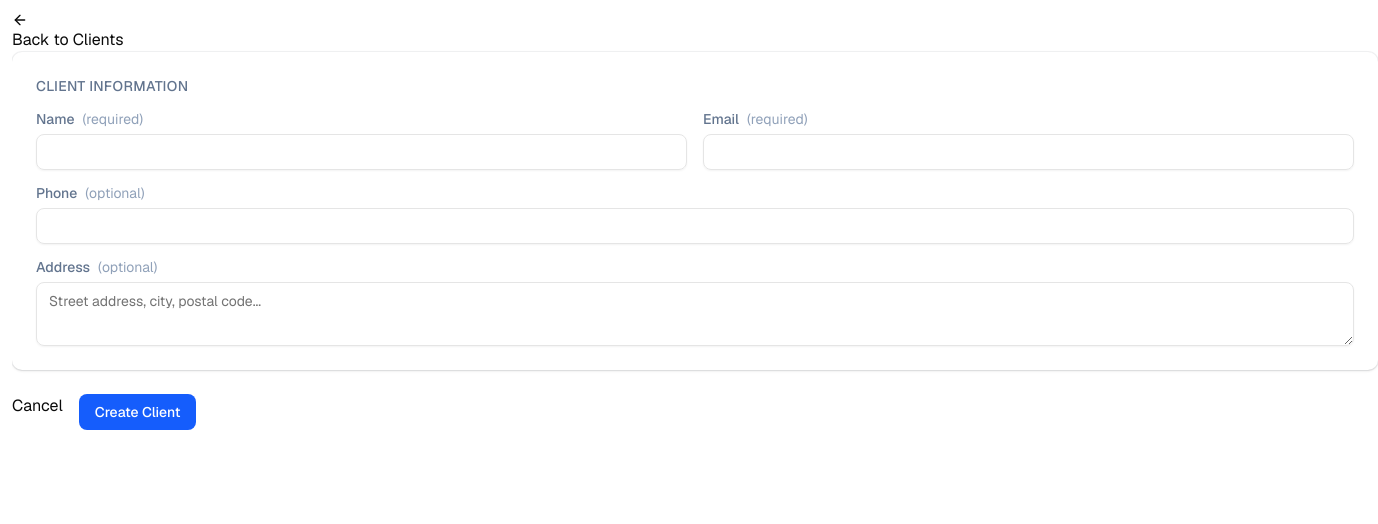
ClientForm › validation › shows error when name is empty
The width and height of the screenshot is (1378, 524).
Step 1. Type "test@example.com" into the field labelled "Email (required)" → [1028, 152], box [703,134,1354,170]
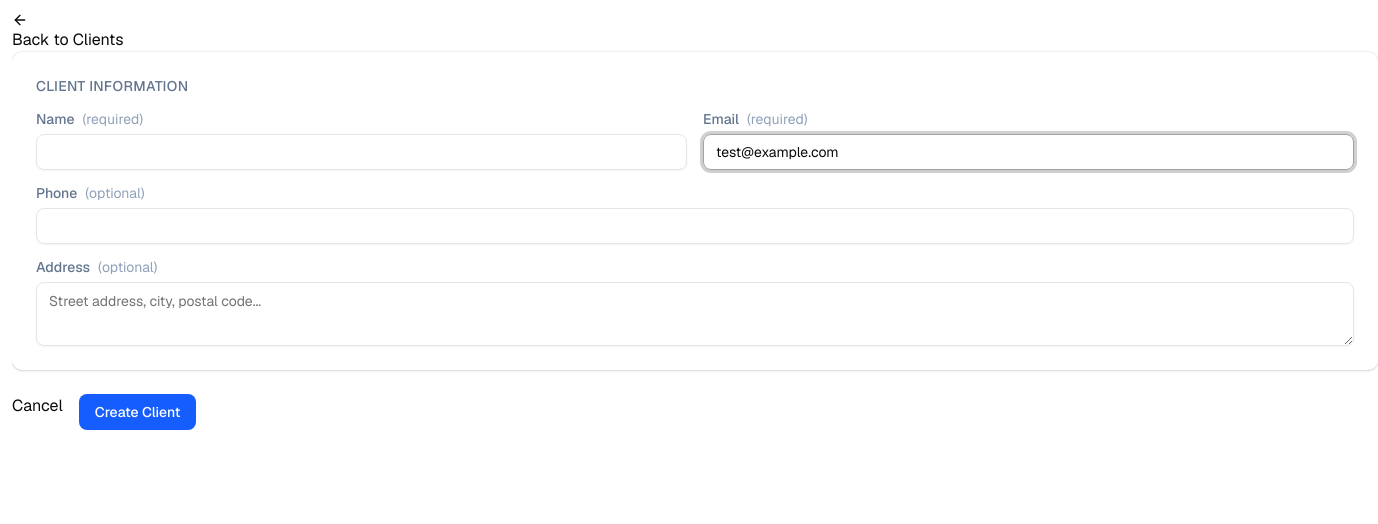
Step 2. Click the button "Create Client" → [138, 412], box [79,394,196,430]
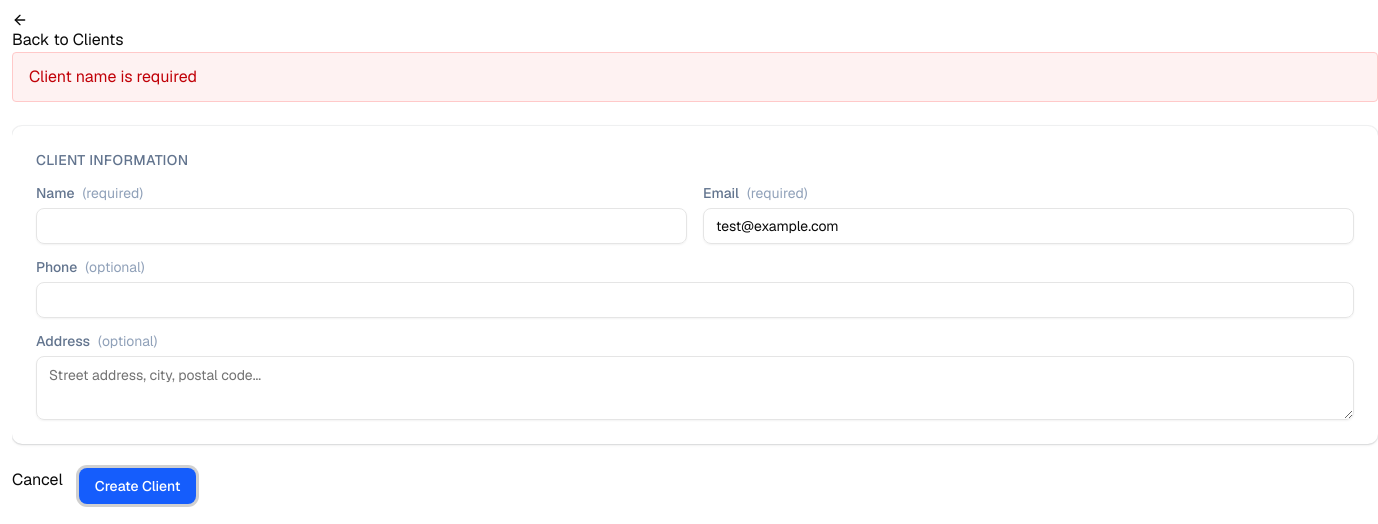
Now the text "Client name is required" is shown, box [12,52,1377,102]
